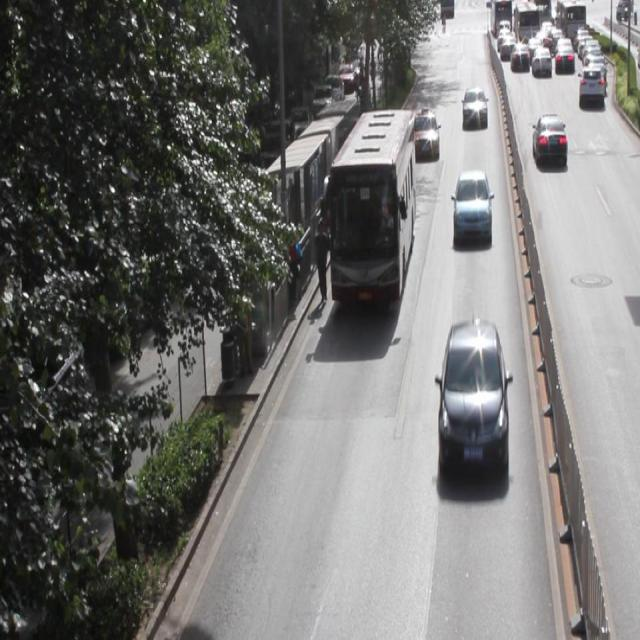car: (438, 320, 507, 471), (452, 170, 490, 240), (532, 113, 566, 167), (413, 109, 438, 154), (461, 87, 485, 128)
van: (328, 108, 414, 300)
